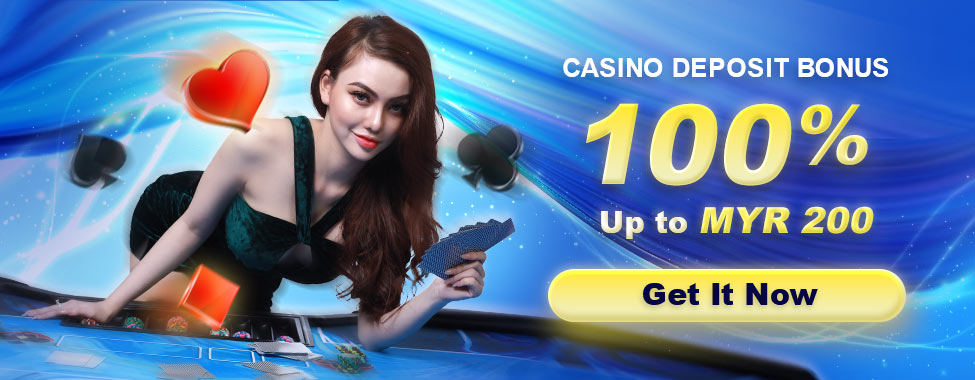%: (799, 99, 871, 173)
0: (648, 100, 720, 191), (723, 99, 793, 191), (825, 204, 850, 236), (850, 204, 875, 235)
1: (583, 97, 639, 187)
2: (800, 203, 827, 234)
A: (581, 56, 600, 79)
B: (796, 56, 814, 79)
C: (561, 54, 582, 79)
D: (671, 56, 690, 79)
E: (692, 56, 708, 79)
G: (641, 281, 668, 309)
I: (710, 280, 721, 308), (763, 55, 773, 82), (616, 56, 626, 80)
M: (700, 203, 736, 238)
N: (745, 279, 770, 309), (836, 54, 855, 79), (626, 56, 643, 77)
O: (727, 55, 747, 79), (816, 54, 834, 80), (644, 56, 664, 79)
P: (708, 57, 725, 79)
R: (762, 203, 791, 239)
S: (599, 57, 616, 79), (873, 56, 889, 79), (748, 57, 764, 79)
T: (772, 56, 791, 79)
U: (598, 206, 624, 234), (855, 54, 873, 80)
Y: (737, 202, 764, 238)
e: (668, 288, 687, 306)
o: (770, 288, 790, 307), (668, 216, 689, 234)
p: (623, 213, 646, 242)
t: (653, 209, 670, 236), (686, 281, 701, 309), (721, 283, 736, 307)
w: (789, 286, 820, 308)
